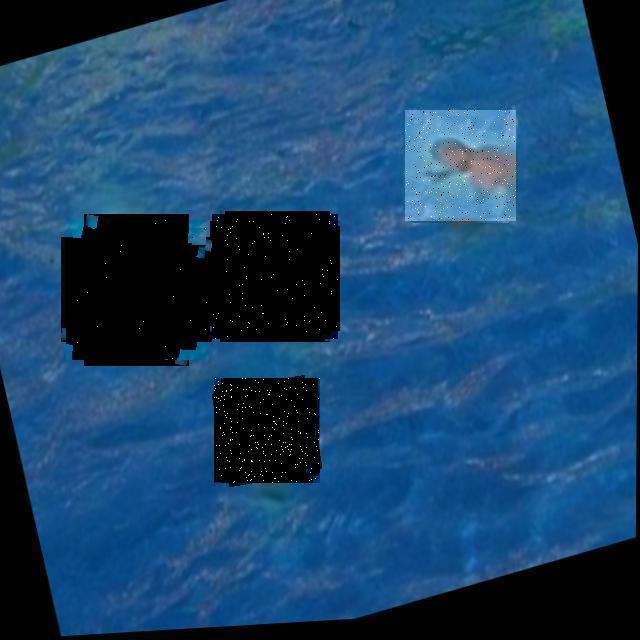swimming: (66, 220, 207, 360), (212, 214, 338, 339), (405, 110, 516, 221), (214, 378, 320, 483)
